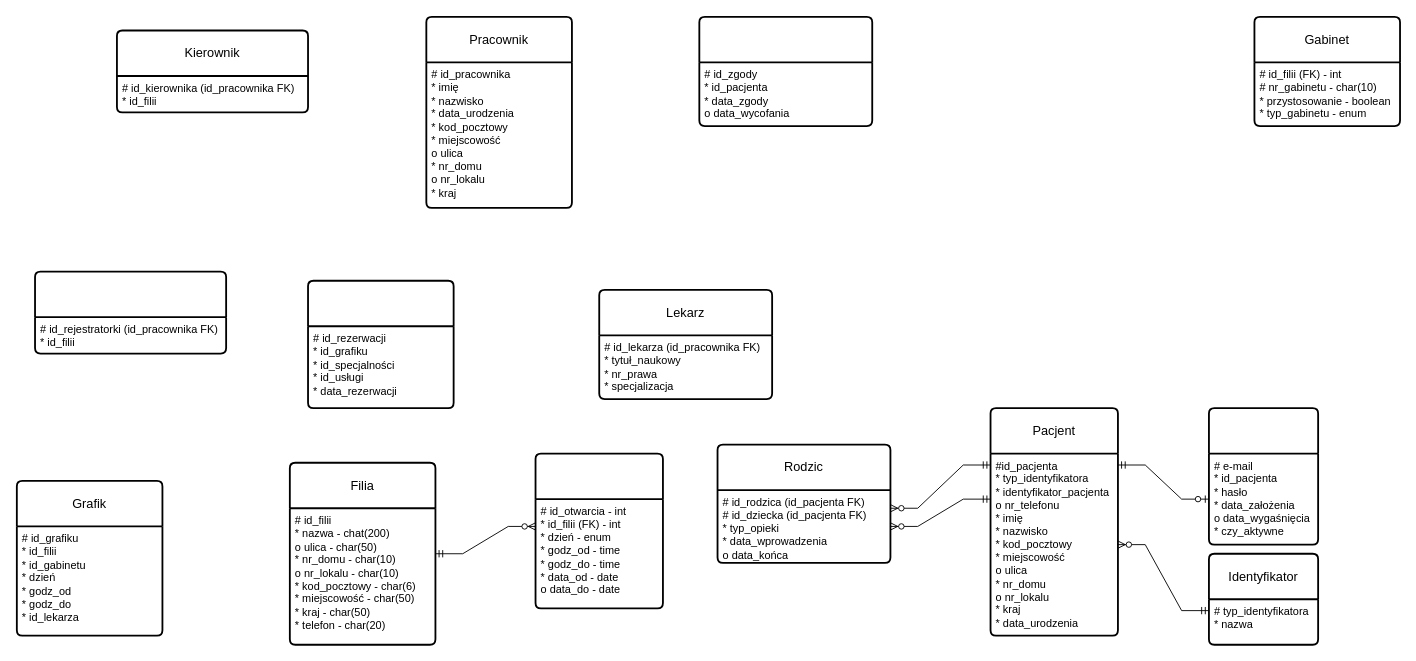
This 1416x661 diagram has some shape labels left out. The shapes that lost their labels are listed below. From the top down, each one's box as (x1, y1, x2, y2) in pixels, then its label:
(698, 15, 873, 126): Zgoda
(34, 270, 227, 354): Rejestratorka
(307, 279, 454, 409): Rezerwacja
(1208, 407, 1319, 545): Konto
(534, 452, 663, 609): Otwarcie
